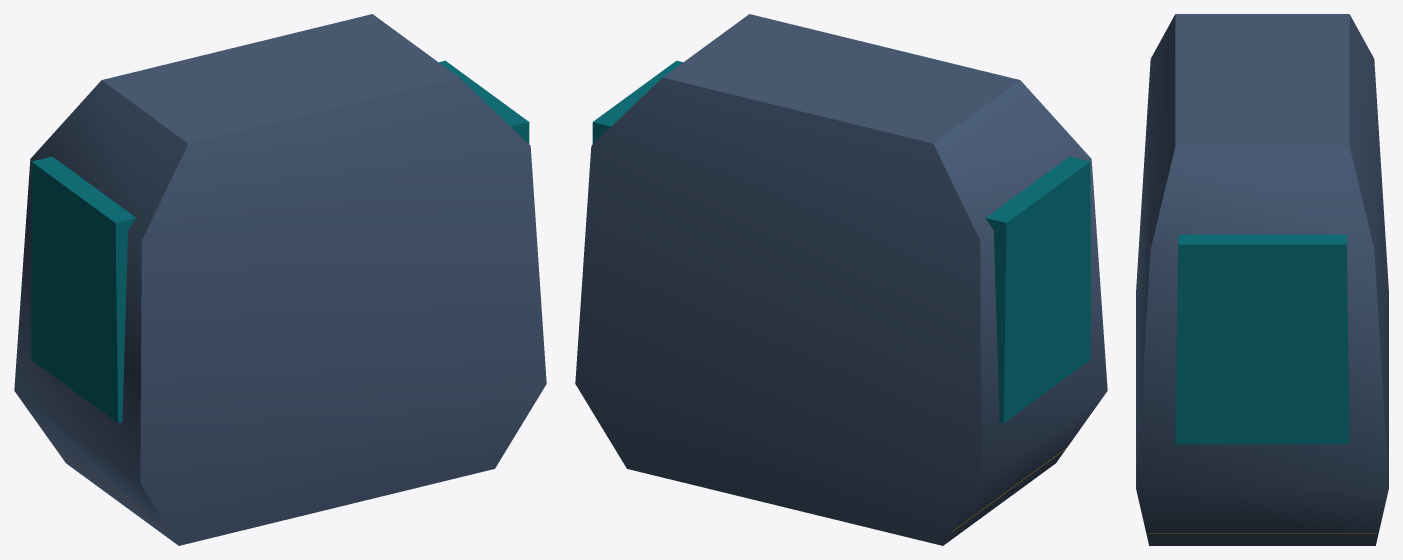
File: Torso.glb
The picture shows the model from 3 angles, left to right: view 1: azimuth 30°, elevation 25°; view 2: azimuth 150°, elevation 25°; view 3: azimuth 270°, elevation 25°; orthographic projection.
Visible parts, largest first — view 1: heavy_chest, side_panel_left, side_panel_right; view 2: heavy_chest, side_panel_left, side_panel_right; view 3: heavy_chest, side_panel_right.
Boxes of the visible parts, x1,y1,x2,y2 form: heavy_chest: (14, 14, 546, 545); side_panel_left: (31, 156, 136, 423); side_panel_right: (439, 60, 529, 143); heavy_chest: (575, 14, 1107, 545); side_panel_left: (985, 156, 1090, 423); side_panel_right: (592, 60, 682, 143); heavy_chest: (1136, 14, 1388, 545); side_panel_right: (1175, 234, 1349, 444).
Size of the model in its own units: 3.3 by 2.95 by 1.74.
